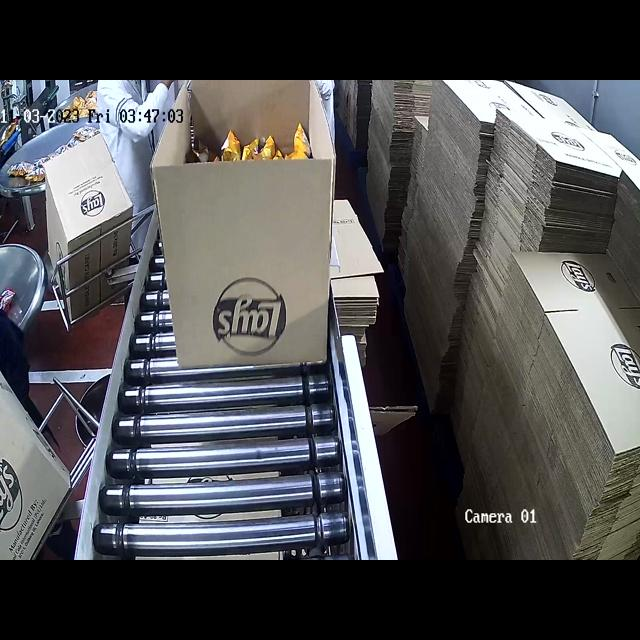cheese: (175, 129, 334, 168)
